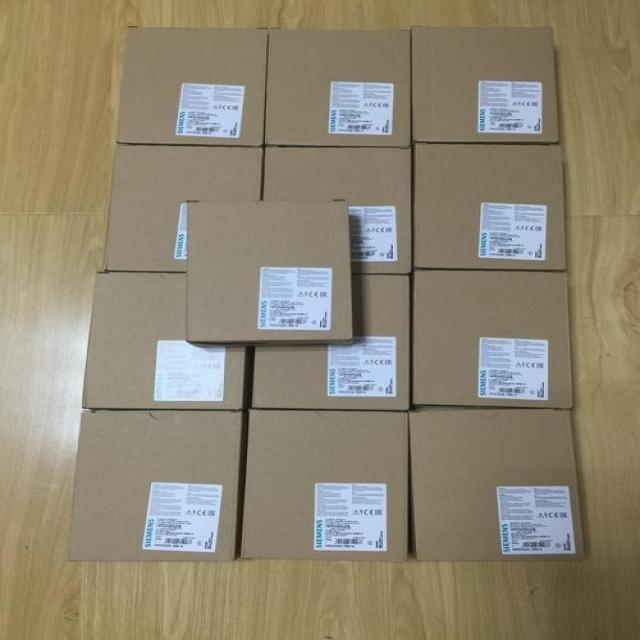box: (408, 409, 586, 564), (67, 409, 246, 563), (239, 409, 411, 562), (186, 201, 351, 346), (411, 271, 572, 411), (82, 272, 246, 409), (252, 273, 411, 412), (101, 144, 265, 273), (413, 142, 566, 272), (261, 146, 413, 274), (115, 26, 269, 148), (411, 25, 562, 144), (264, 28, 411, 147)
